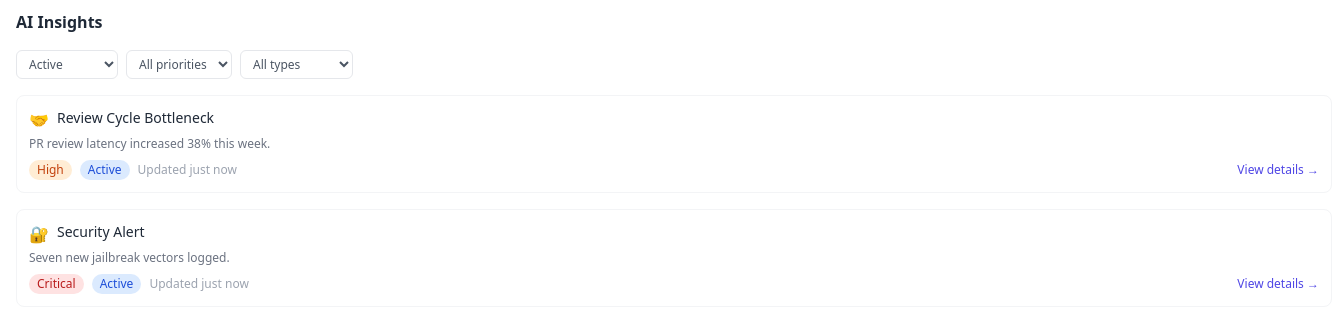
Test: AIInsightsPanel › filters by status
Select "Resolved" in the dropdown named "Filter by status" at (67, 64), box [16, 50, 118, 79]
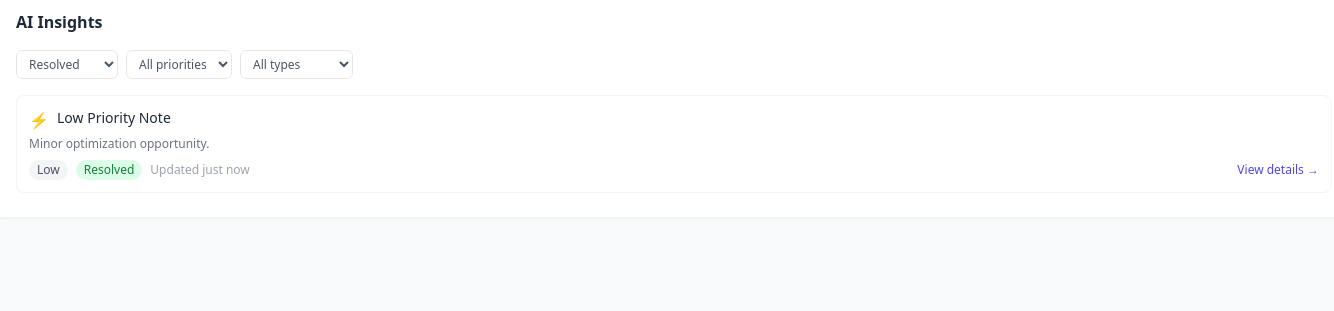
Expected: the link "Low Priority Note" is shown, [57, 108, 171, 127]
Expected: the link "Review Cycle Bottleneck" is gone
